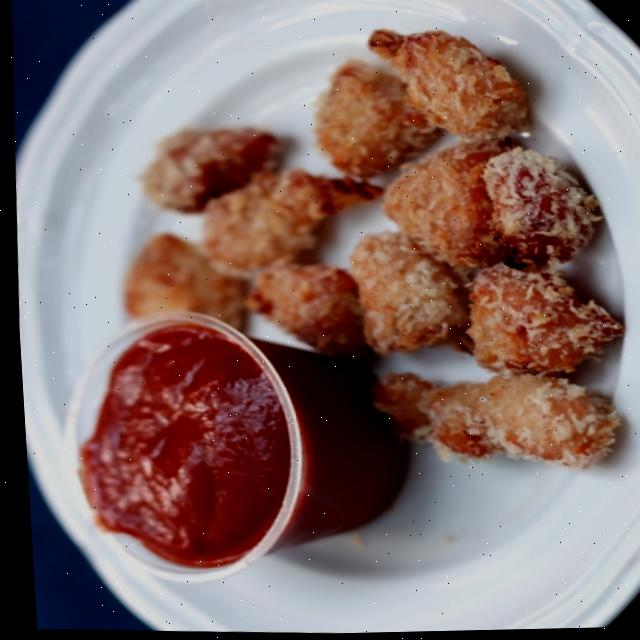鸡肉料理 含炸鸡: (38, 0, 640, 601)
